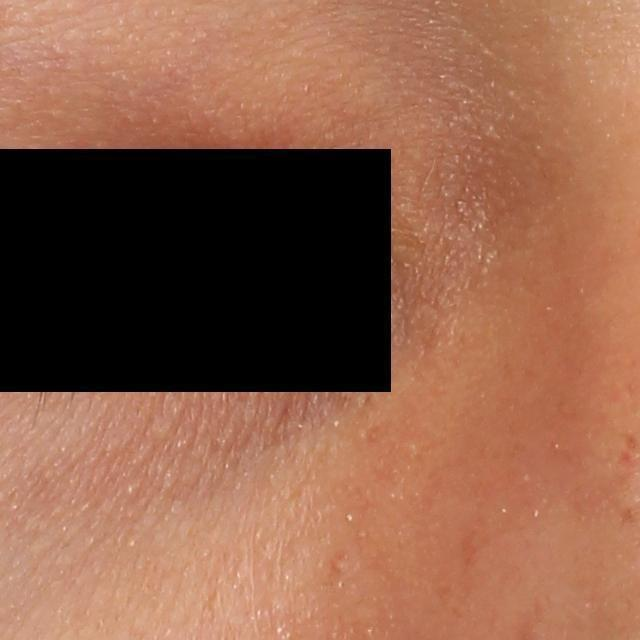melasma: (619, 507, 638, 528)
